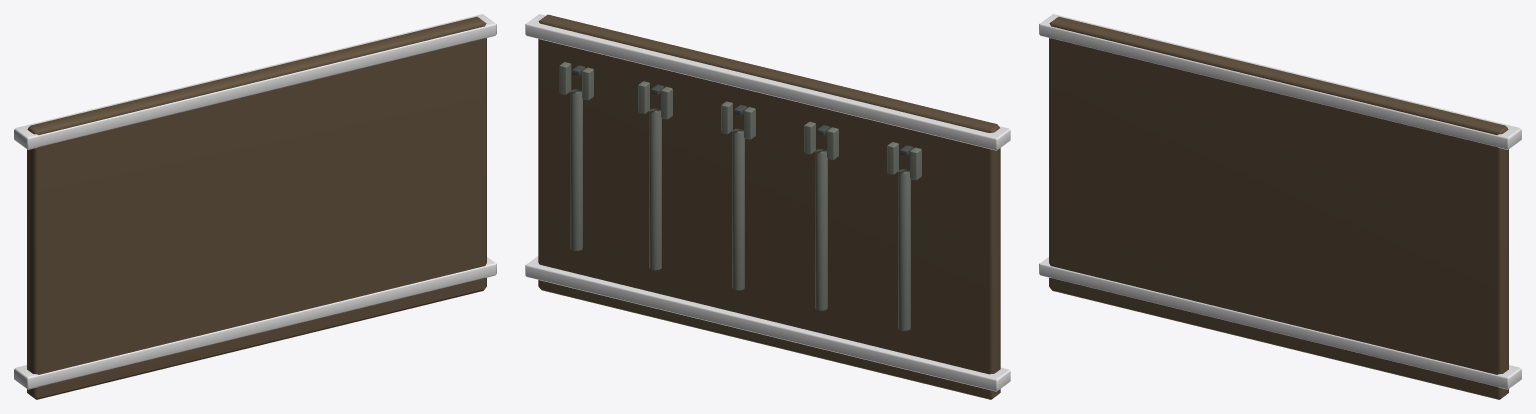
The model's file is ToolBoard62.fbx.
The picture shows the model from 3 angles, left to right: view 1: azimuth 30°, elevation 25°; view 2: azimuth 150°, elevation 25°; view 3: azimuth 330°, elevation 25°; orthographic projection.
Visible parts, largest first — view 1: ToolBoard62; view 2: ToolBoard62; view 3: ToolBoard62.
Part boxes in pixels (<box>): ToolBoard62: <box>14,14,496,399</box>; ToolBoard62: <box>525,14,1010,399</box>; ToolBoard62: <box>1039,14,1521,399</box>.
Bounding box in the file's own units: 228 × 125 × 16.
